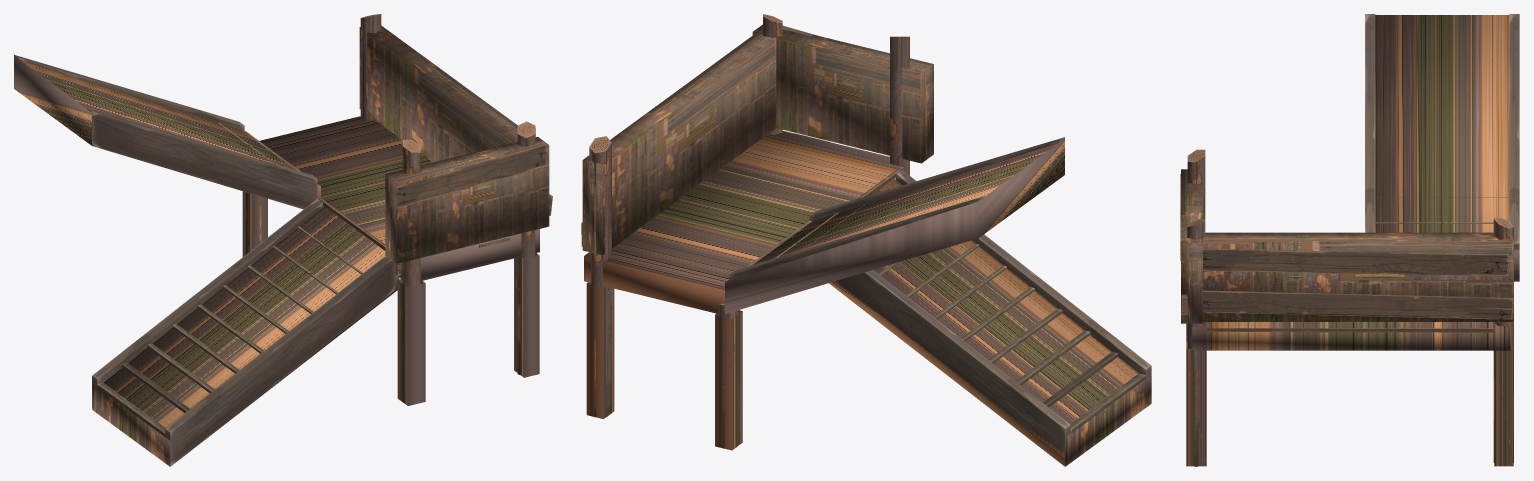
The model's file is fenceWalk_stairs02.FBX.
3 views of the same model, side by side, from view 1: azimuth 30°, elevation 25°; view 2: azimuth 150°, elevation 25°; view 3: azimuth 270°, elevation 25° (orthographic). The views are drawn at different scales.
Parts seen in each view (by area): view 1: fenceWalk_stairs02_COL, fenceWalk_stairs02; view 2: fenceWalk_stairs02_COL, fenceWalk_stairs02; view 3: fenceWalk_stairs02_COL, fenceWalk_stairs02.
Boxes of the visible parts, x1,y1,x2,y2 form: fenceWalk_stairs02_COL: (14, 25, 549, 466); fenceWalk_stairs02: (14, 14, 552, 466); fenceWalk_stairs02_COL: (582, 24, 1151, 466); fenceWalk_stairs02: (581, 14, 1151, 455); fenceWalk_stairs02_COL: (1181, 15, 1519, 466); fenceWalk_stairs02: (1180, 14, 1519, 466).
Bounding box in the file's own units: 408 × 316 × 329.
